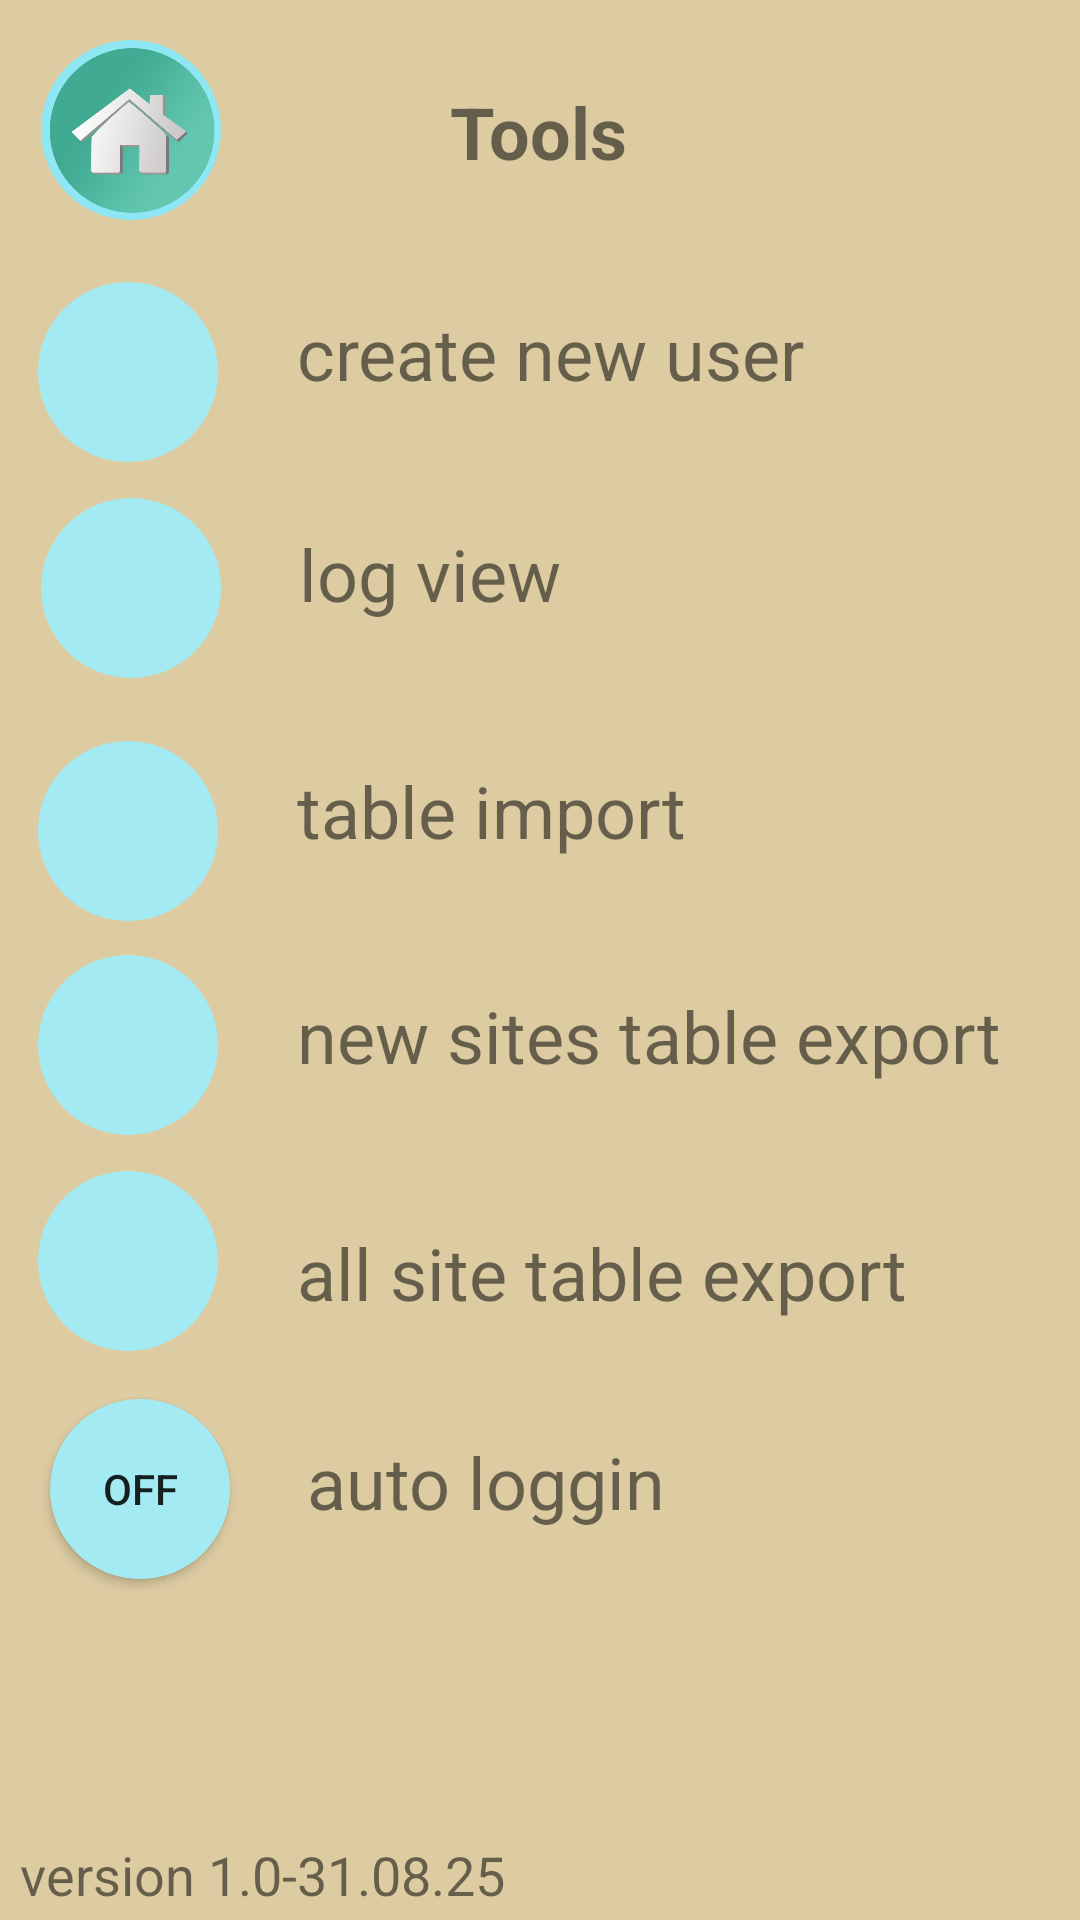

Icons on this 1080px×1920px Android screen, each with its box as Rect(x1, y1, x2, y2):
home: Rect(41, 40, 221, 220)
